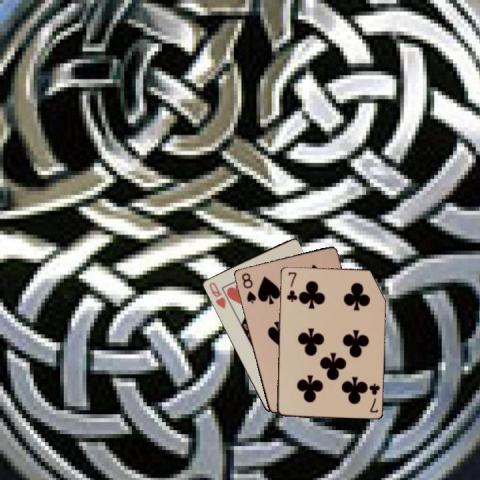7c: (366, 380, 381, 414), (284, 269, 298, 302)
8s: (239, 270, 257, 305)
Qh: (206, 279, 227, 311)
